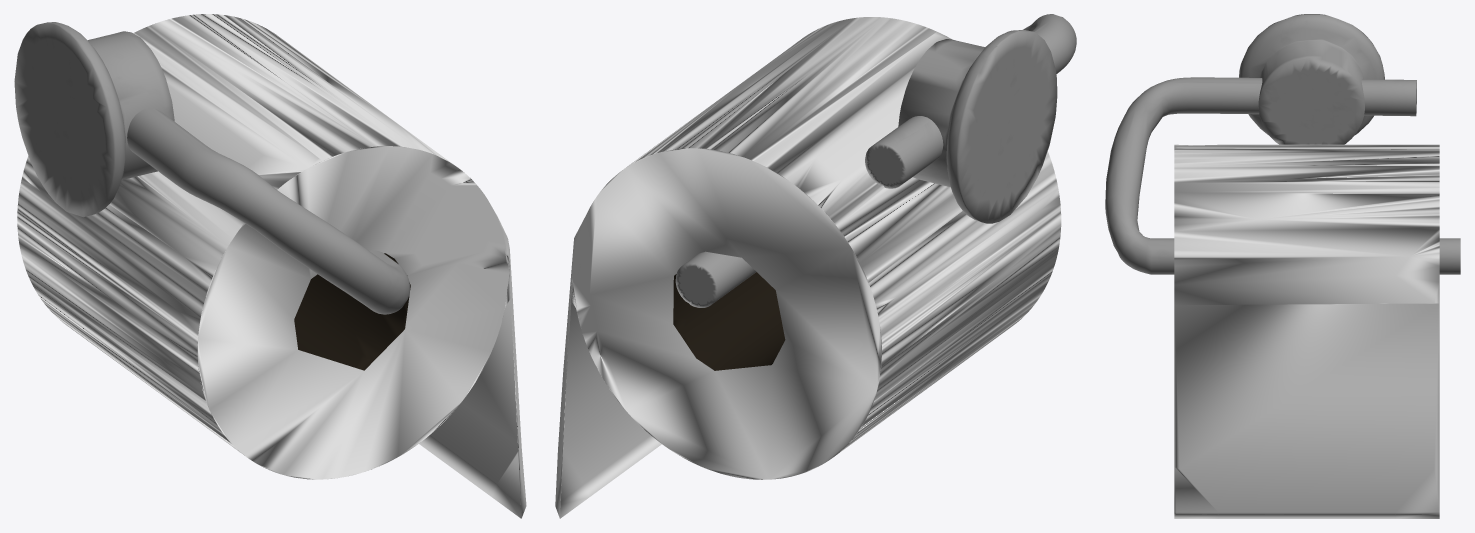
File: toilet-paper-holder.glb
3 views of the same model, side by side, from view 1: azimuth 30°, elevation 25°; view 2: azimuth 150°, elevation 25°; view 3: azimuth 270°, elevation 25° (orthographic). The views are drawn at different scales.
Visible parts, largest first — view 1: Cylinder, Cylinder.002, Cylinder.001; view 2: Cylinder, Cylinder.002, Cylinder.001; view 3: Cylinder, Cylinder.002, Cylinder.001.
Part boxes in pixels (x1,y1,x2,y2): Cylinder: (17,14,526,518); Cylinder.002: (14,22,174,217); Cylinder.001: (127,108,409,314); Cylinder: (555,17,1061,518); Cylinder.002: (898,30,1057,223); Cylinder.001: (675,14,1076,307); Cylinder: (1174,144,1439,518); Cylinder.002: (1239,14,1384,144); Cylinder.001: (1105,77,1460,274).
Bounding box in the file's own units: 237 × 311 × 268.
3 materials, 1 textured.
